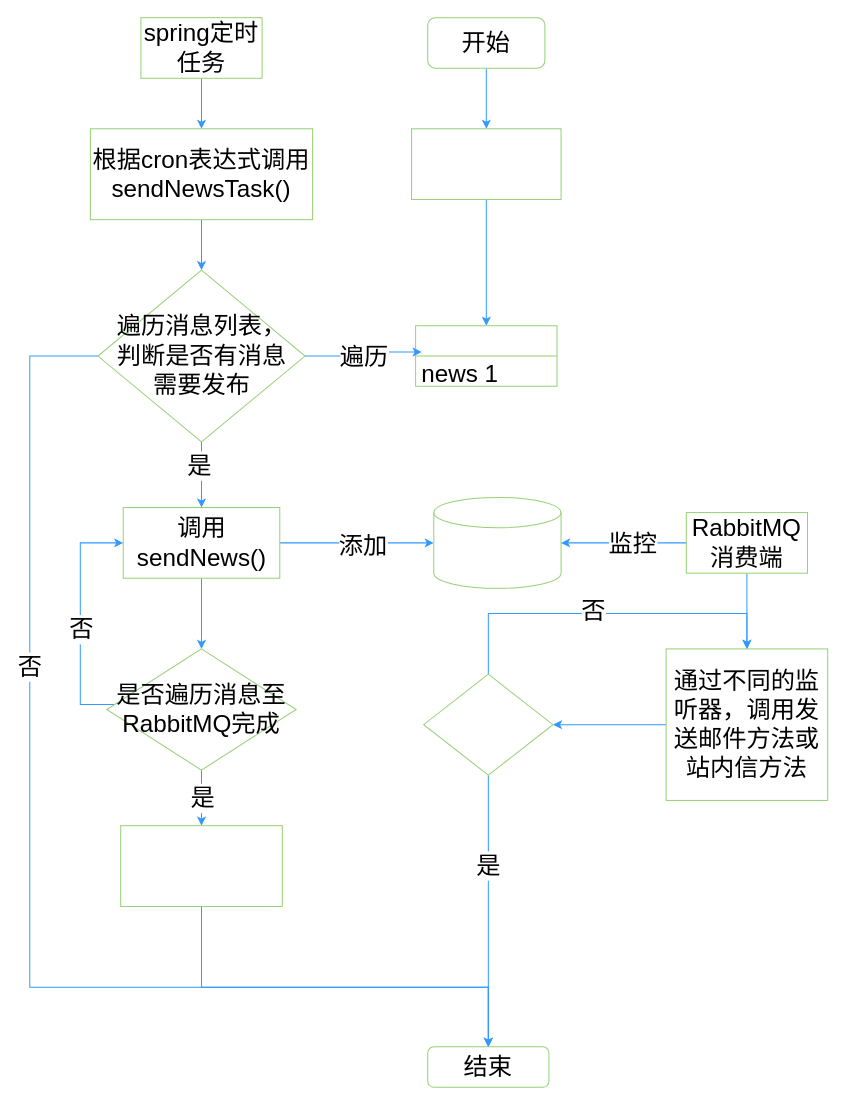
This 845x1105 diagram has some shape labels left out. Each missing label, with the box of its shape:
List: (415, 325, 557, 386)
RabbitMQ: (433, 496, 561, 588)
修改news状态至“已发送”: (120, 825, 282, 906)
是否 消费完成: (423, 673, 553, 775)
调用insert()添加消息: (411, 128, 561, 199)
